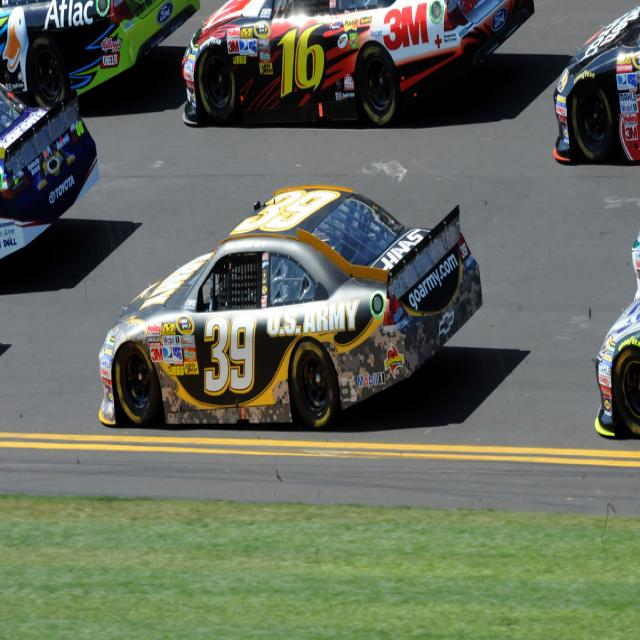other: (105, 189, 485, 429), (185, 0, 530, 117), (554, 1, 639, 258), (0, 66, 103, 260), (0, 9, 196, 106)
